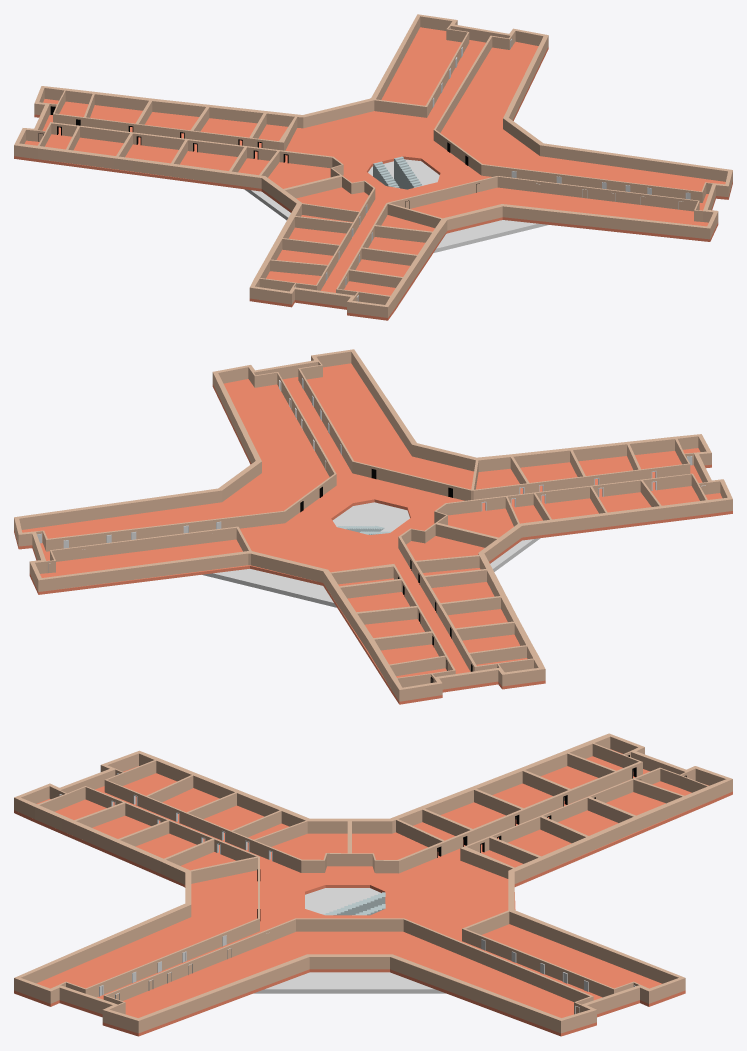
File: school.fbx
3 renders of one model, top to bottom at view 1: azimuth 30°, elevation 25°; view 2: azimuth 150°, elevation 25°; view 3: azimuth 270°, elevation 25°, orthographic. The views are drawn at different scales.
Visible parts, largest first — view 1: zemin; view 2: zemin; view 3: zemin.
Part boxes in pixels (left/top/right/bottom): zemin: left=14, top=14, right=732, bottom=320; zemin: left=14, top=349, right=732, bottom=704; zemin: left=14, top=733, right=732, bottom=1036.
Size of the model in its own units: 14884 by 1107 by 15724.
